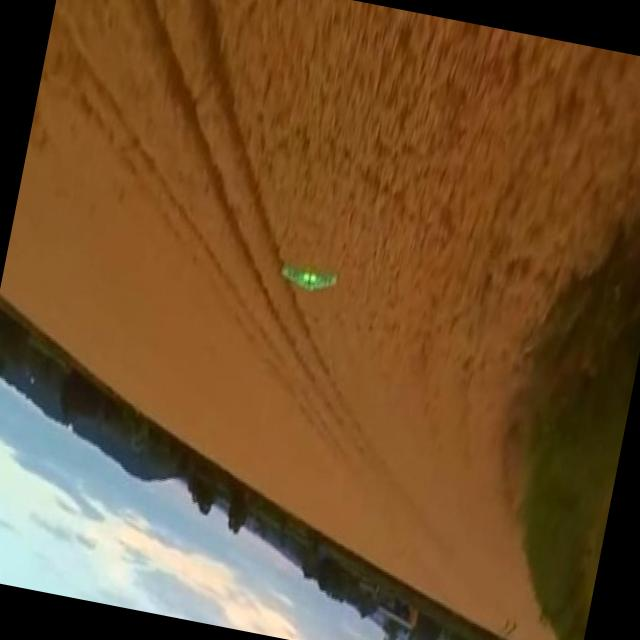UAV: (250, 237, 346, 307)
